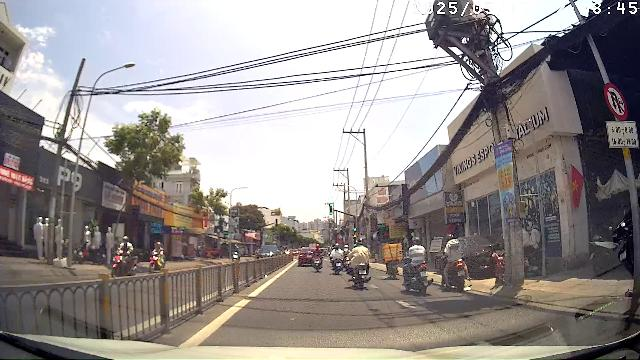124b-cam-oto-quay-dau-xe: (604, 82, 628, 120)
